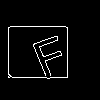F: (25, 25, 73, 80)
